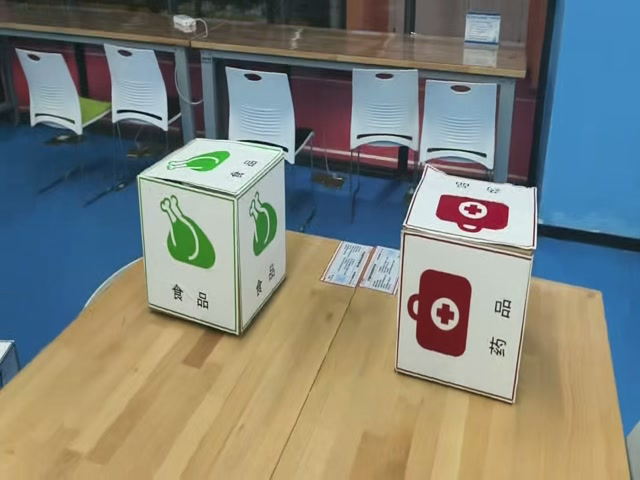Cube_food: (139, 138, 284, 200)
Cube_medicine: (396, 172, 533, 260)
